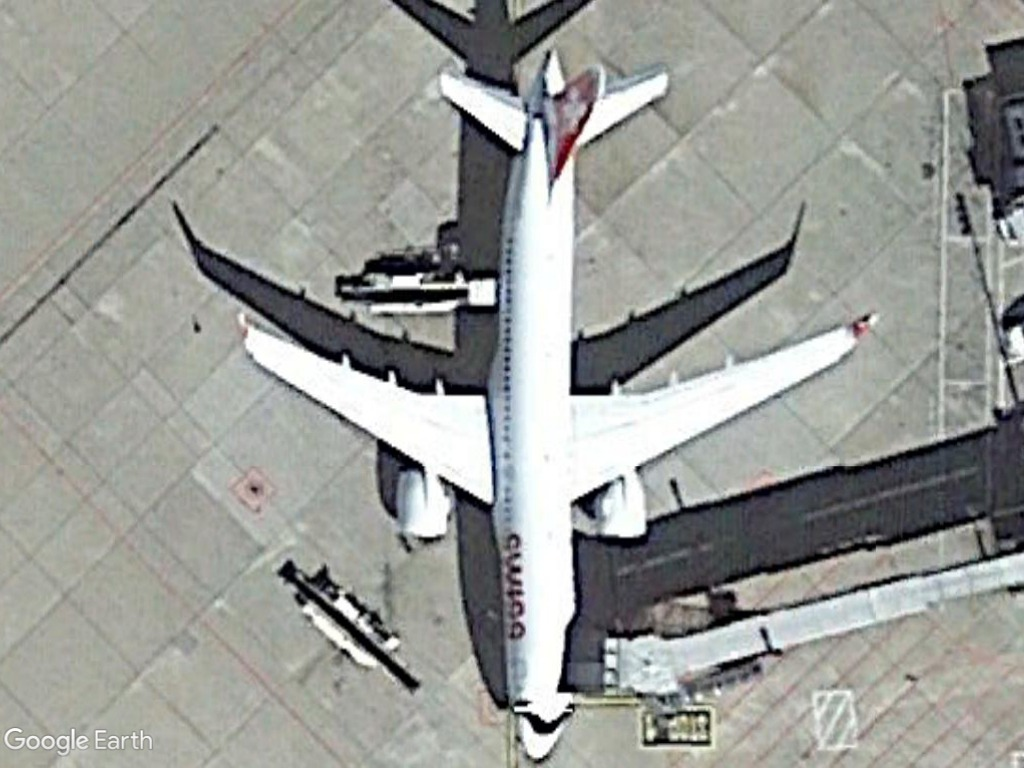airliner: (228, 51, 875, 767)
